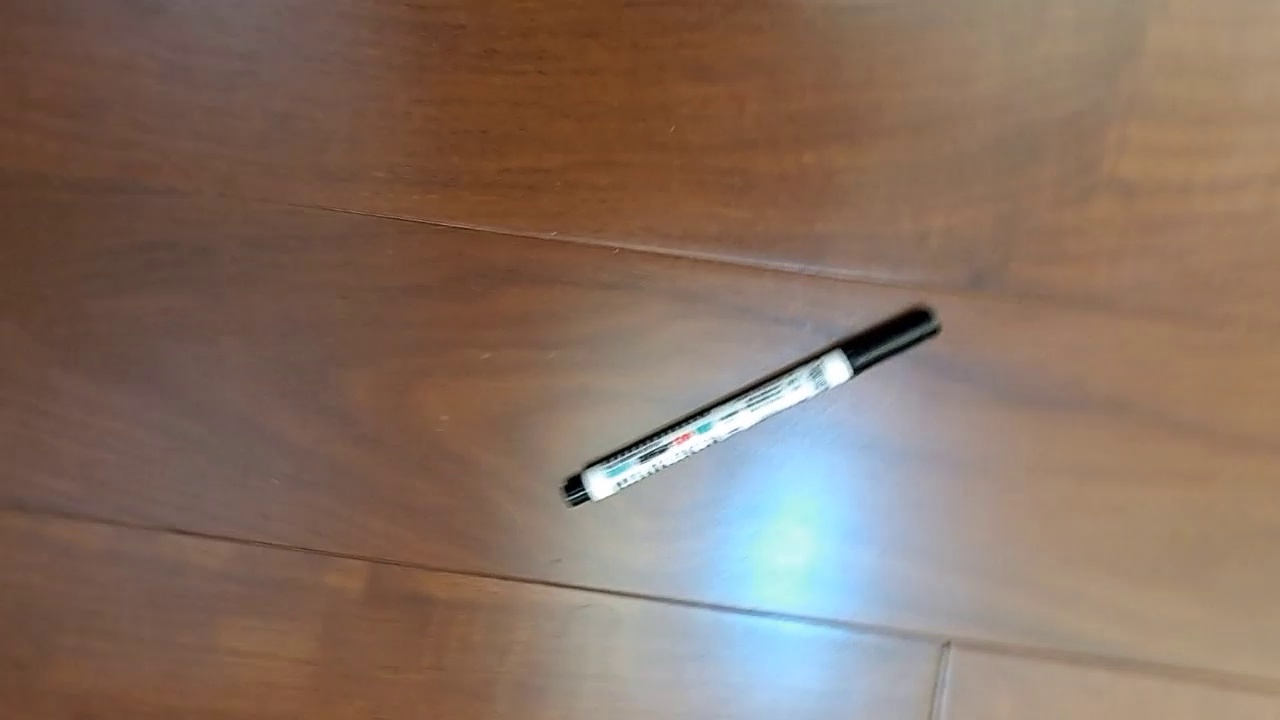pen: (558, 300, 944, 511)
